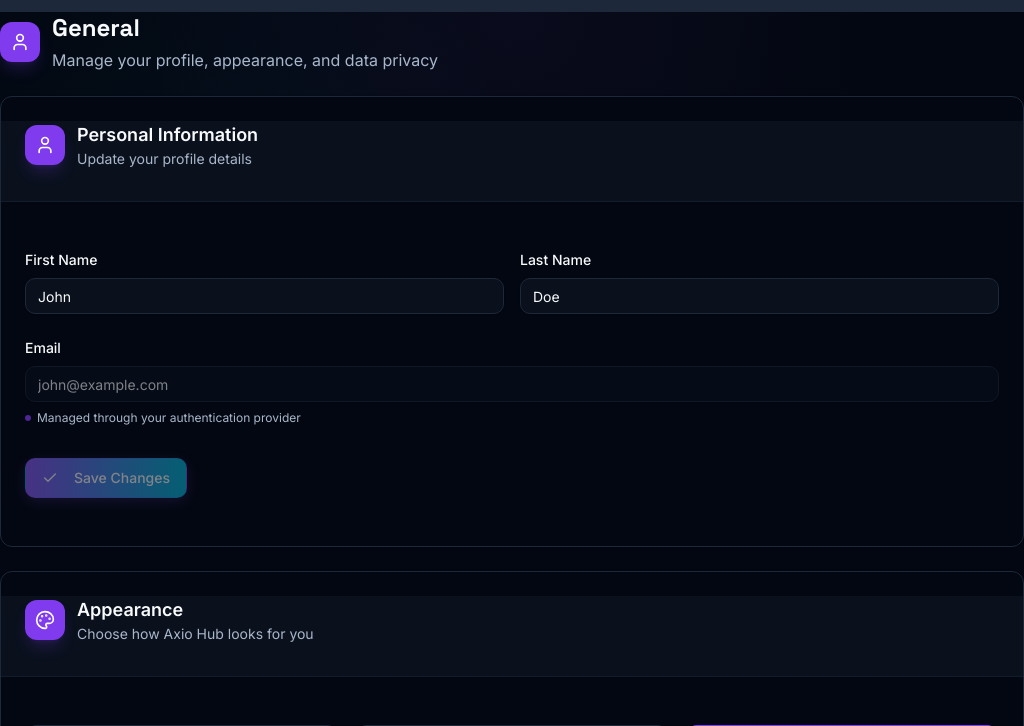
GeneralSettings - Danger Zone › Form Validation › should show error when last name is empty
Clear the field labelled "Last Name": point(760, 296) [520,278,999,314]
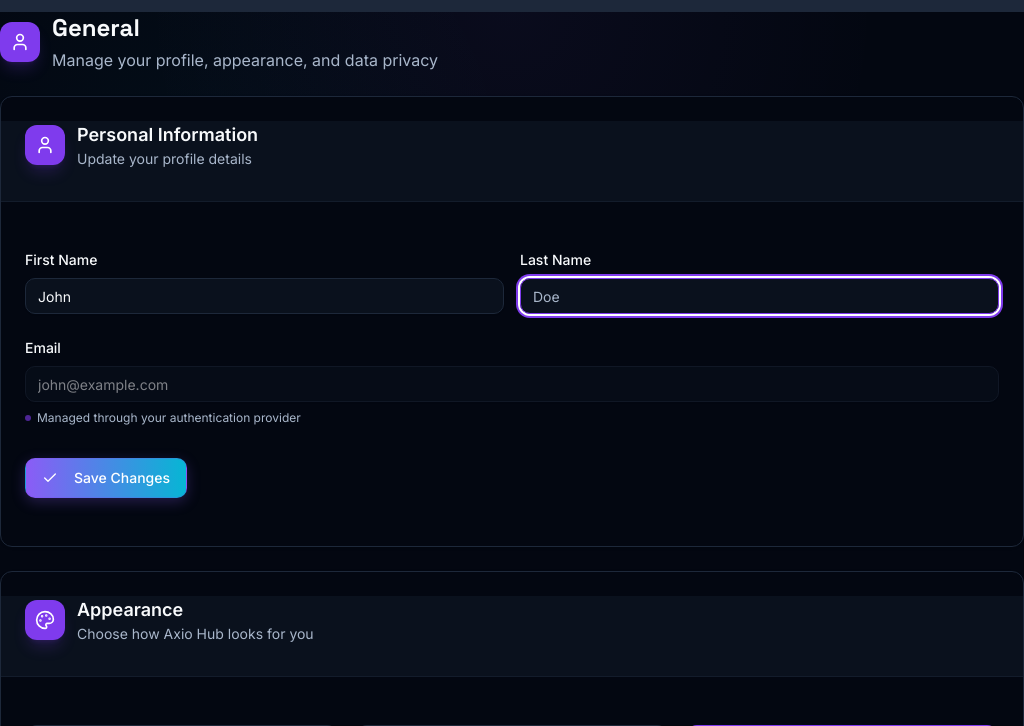
Click the button "Save Changes": point(106, 478) [25,458,187,498]
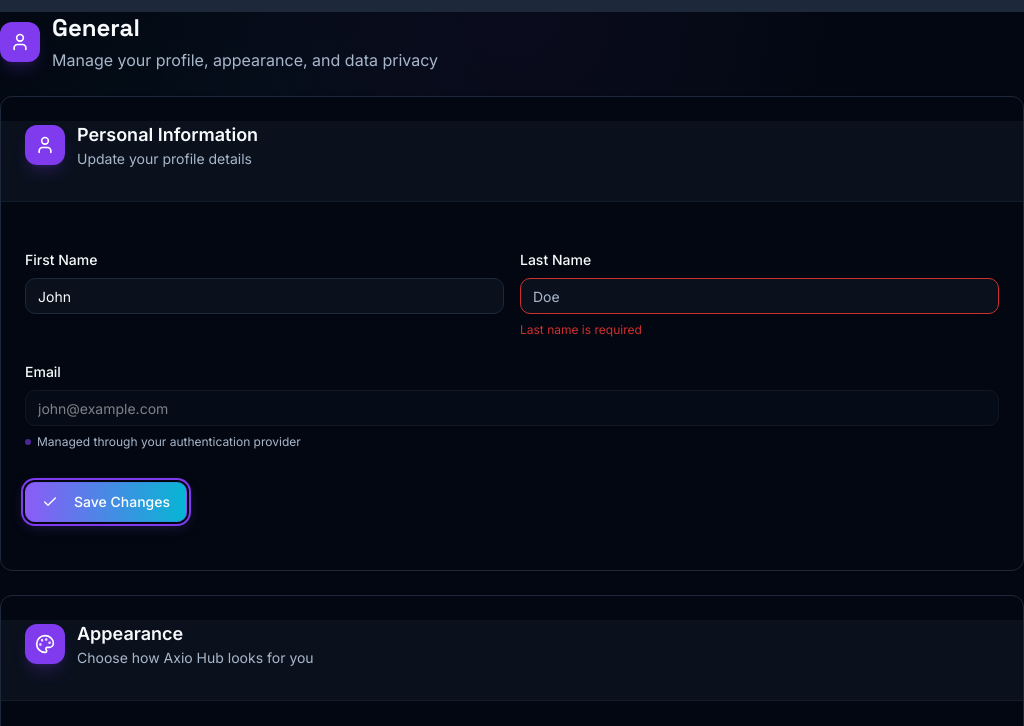
Now the text "Last name is required" is shown, box [520,322,642,337]
